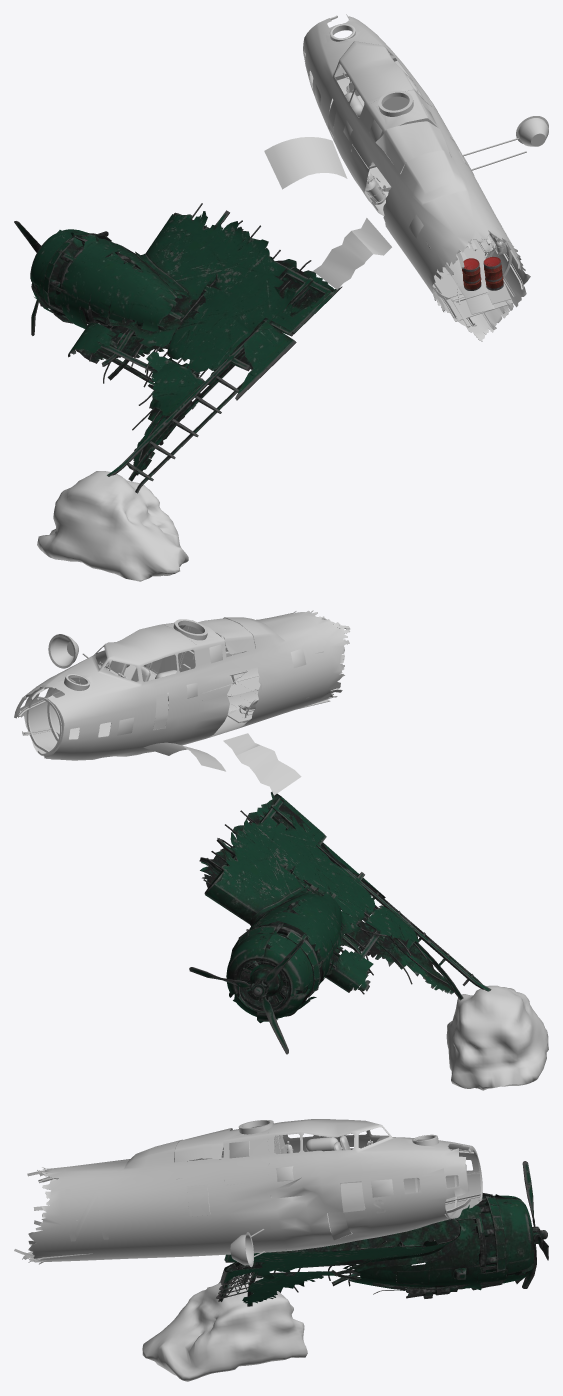
File: Wings.fbx
3 renders of one model, top to bottom at view 1: azimuth 30°, elevation 25°; view 2: azimuth 150°, elevation 25°; view 3: azimuth 270°, elevation 25°, orthographic.
Visible parts, largest first — view 1: b17_damaged.010, b17_damaged.013, Mountain.002; view 2: b17_damaged.013, b17_damaged.010, Mountain.002; view 3: b17_damaged.013, b17_damaged.010, Mountain.002.
Boxes of the visible parts, left/top/right/bottom form: b17_damaged.010: left=14, top=203, right=342, bottom=493; b17_damaged.013: left=264, top=14, right=548, bottom=341; Mountain.002: left=37, top=471, right=188, bottom=581; b17_damaged.013: left=14, top=610, right=350, bottom=795; b17_damaged.010: left=189, top=792, right=491, bottom=1054; Mountain.002: left=446, top=985, right=548, bottom=1090; b17_damaged.013: left=14, top=1119, right=482, bottom=1267; b17_damaged.010: left=216, top=1161, right=548, bottom=1306; Mountain.002: left=142, top=1275, right=307, bottom=1381.
Size of the model in its own units: 1741 by 1304 by 1605.
